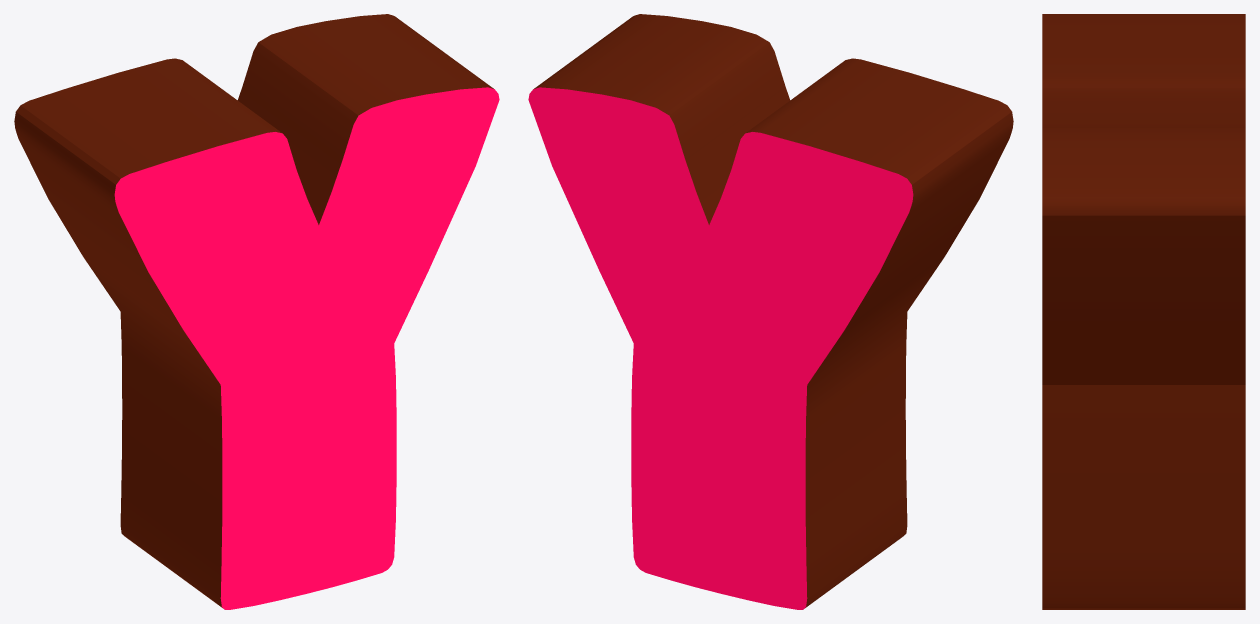
3 views of the same model, side by side, from view 1: azimuth 30°, elevation 25°; view 2: azimuth 150°, elevation 25°; view 3: azimuth 270°, elevation 25° (orthographic).
Parts seen in each view (by area): view 1: y.001; view 2: y.001; view 3: y.001.
Part boxes in pixels (<box>): y.001: <box>14,14,499,609</box>; y.001: <box>528,14,1013,609</box>; y.001: <box>1042,14,1245,609</box>.
Bounding box in the file's own units: 0.3992 × 0.4672 × 0.18.
